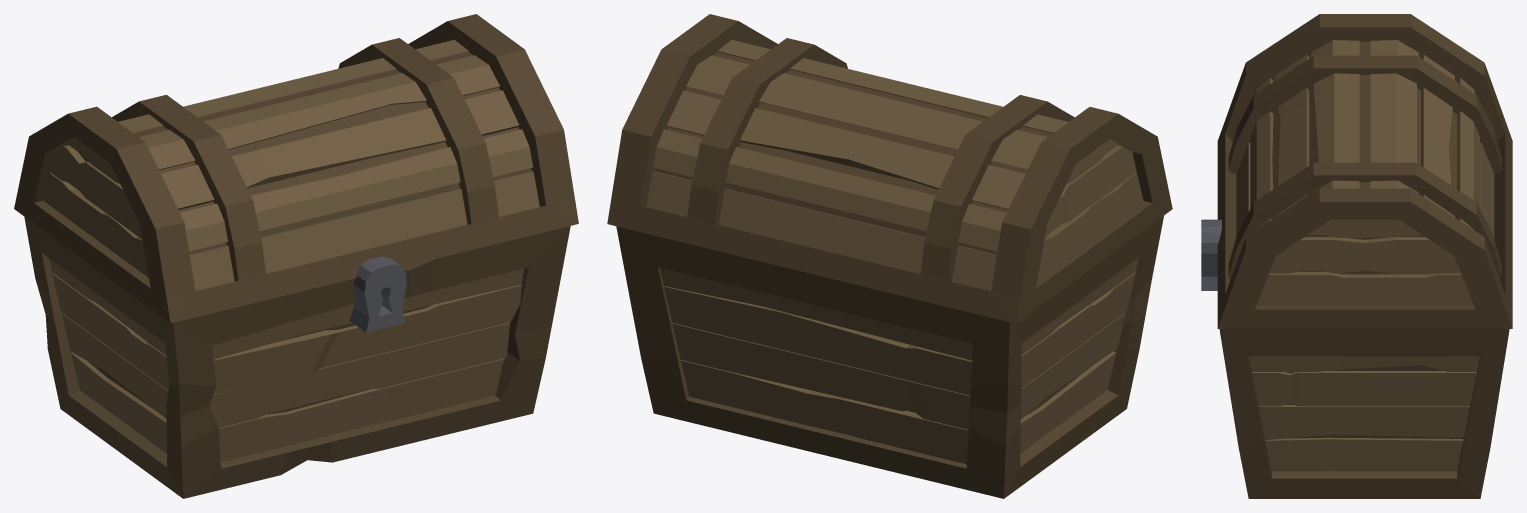
The model's file is Chest.glb.
3 views of the same model, side by side, from view 1: azimuth 30°, elevation 25°; view 2: azimuth 150°, elevation 25°; view 3: azimuth 270°, elevation 25° (orthographic). The views are drawn at different scales.
Visible parts, largest first — view 1: Chest_Top, Chest_Base; view 2: Chest_Top, Chest_Base; view 3: Chest_Top, Chest_Base.
Part boxes in pixels (left/top/right/bottom): Chest_Top: left=14, top=14, right=578, bottom=323; Chest_Base: left=24, top=217, right=570, bottom=498; Chest_Top: left=607, top=14, right=1172, bottom=323; Chest_Base: left=616, top=216, right=1163, bottom=498; Chest_Top: left=1217, top=14, right=1512, bottom=328; Chest_Base: left=1201, top=219, right=1509, bottom=498.
Bounding box in the file's own units: 1.18 × 0.9093 × 0.8264.
